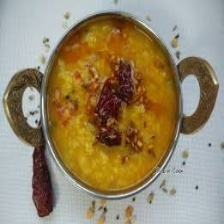dal: (44, 15, 180, 199)
